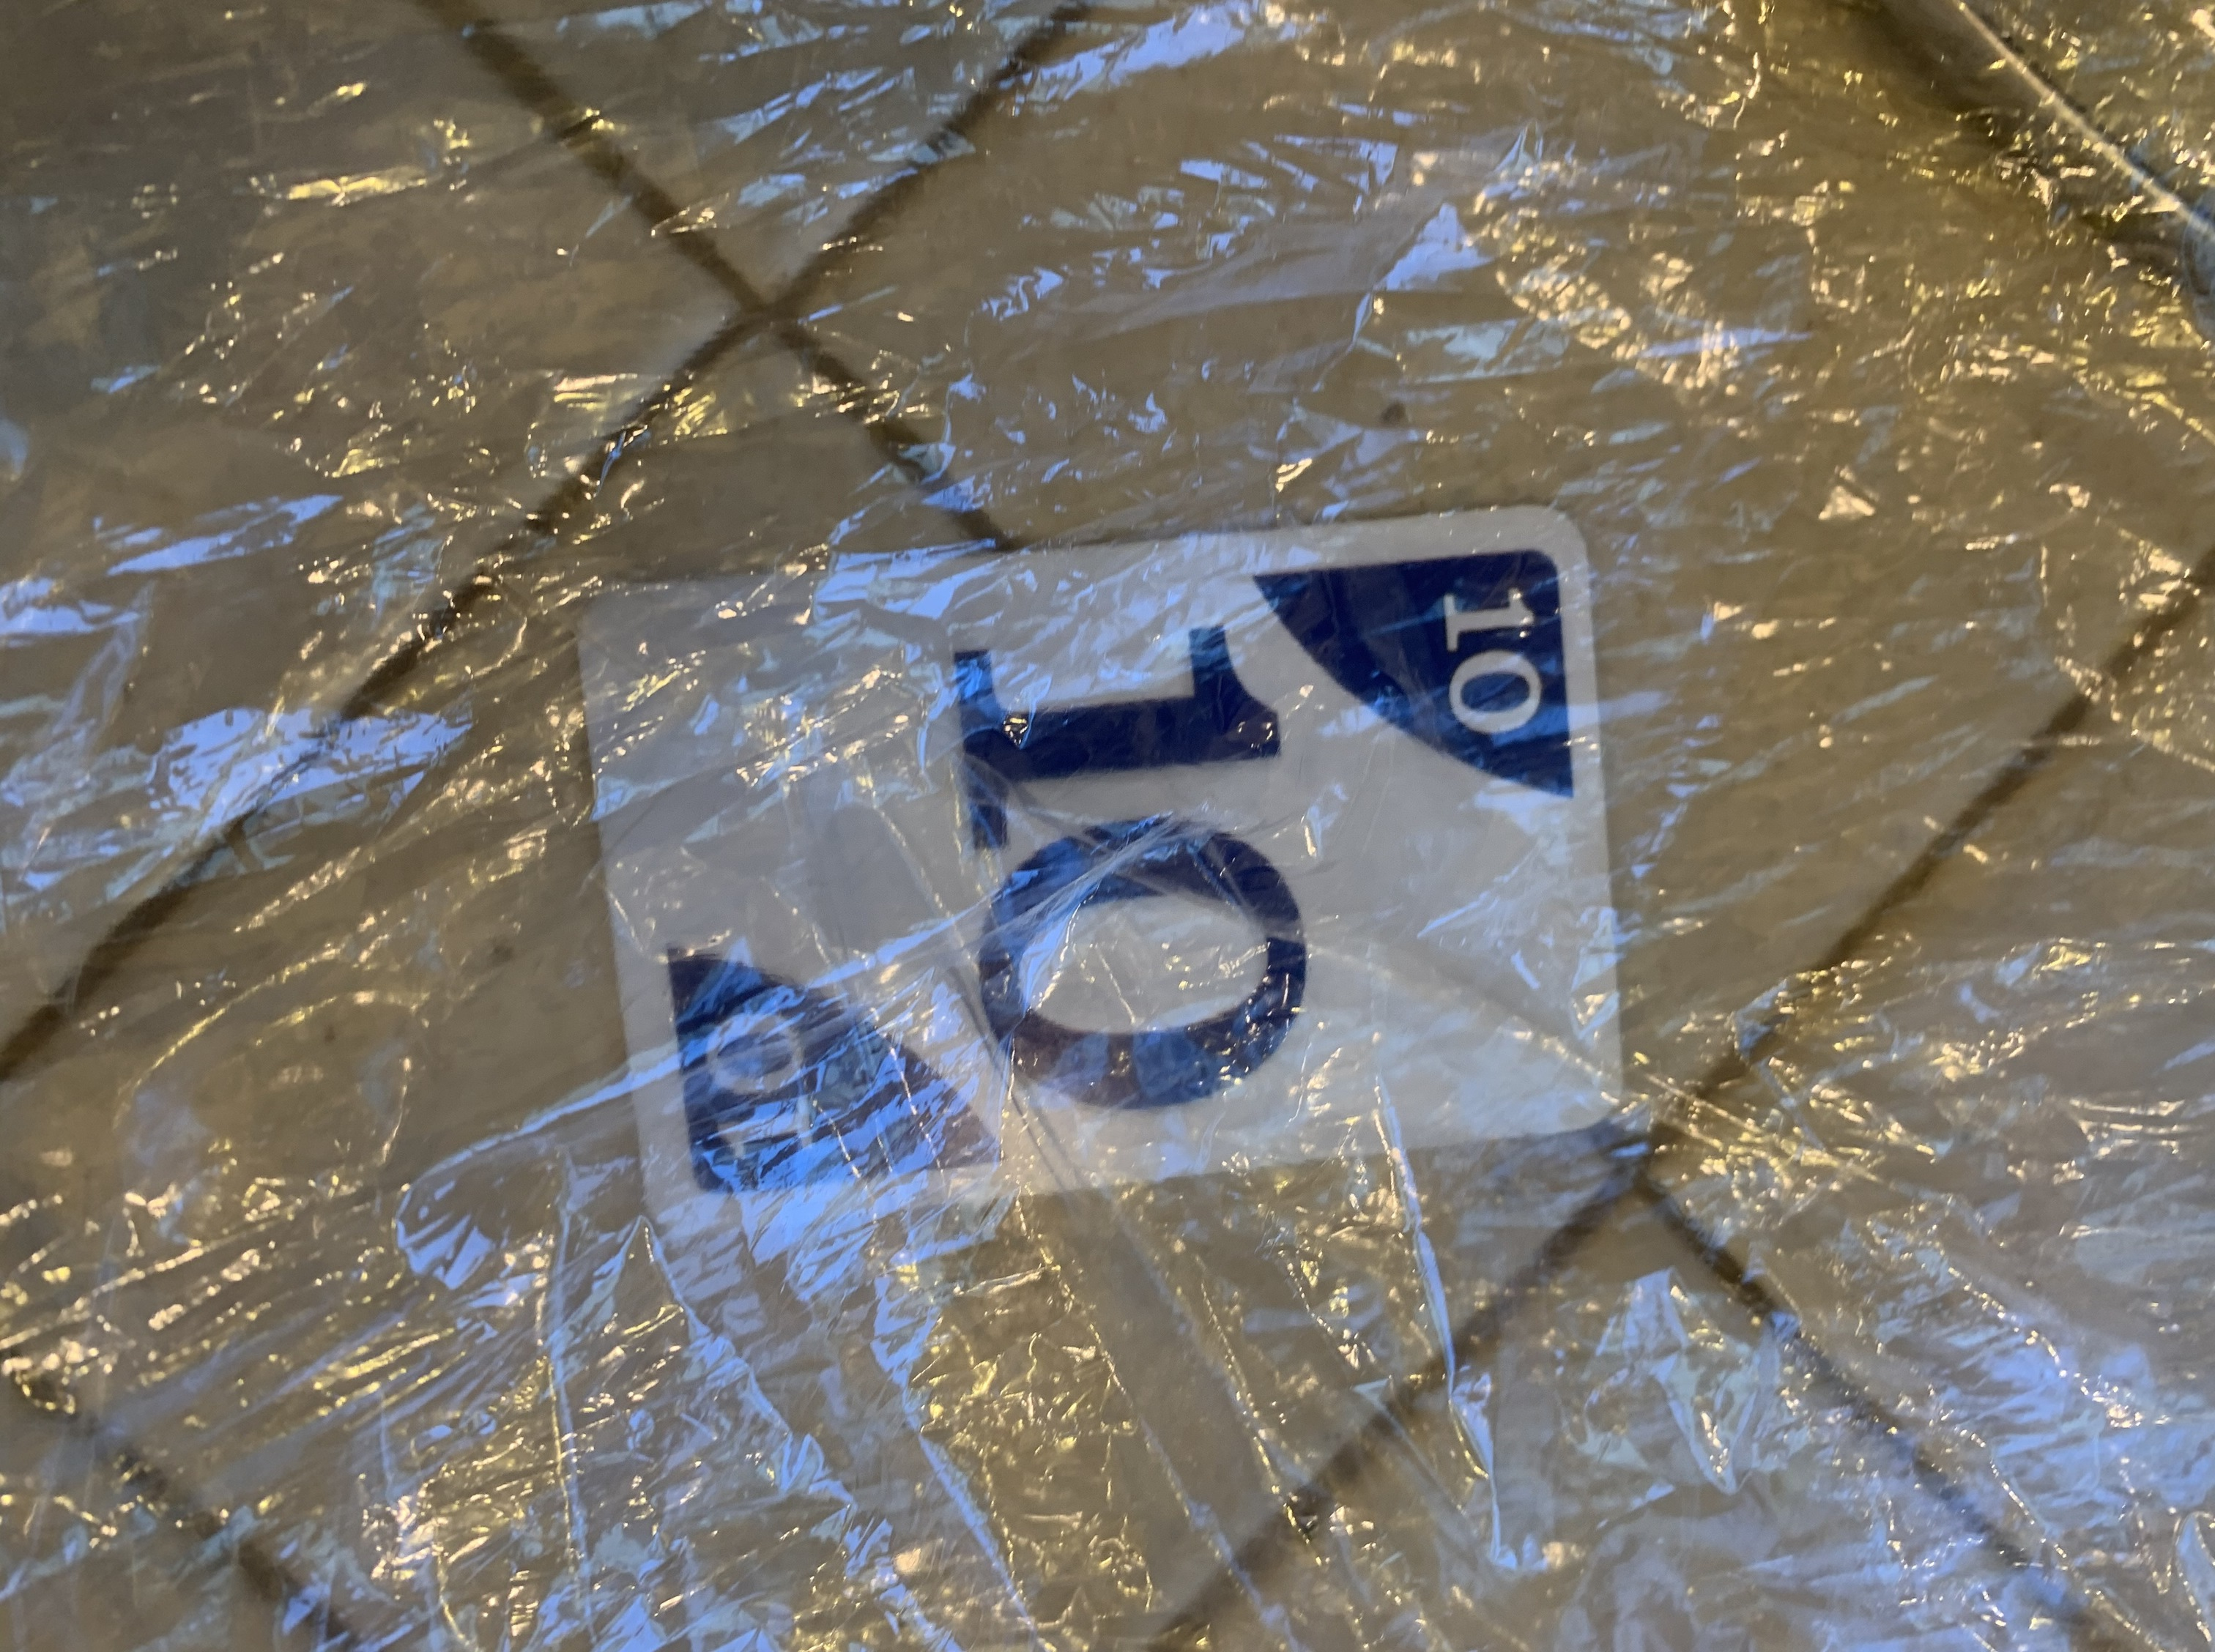ten: (568, 482, 1640, 1248)
